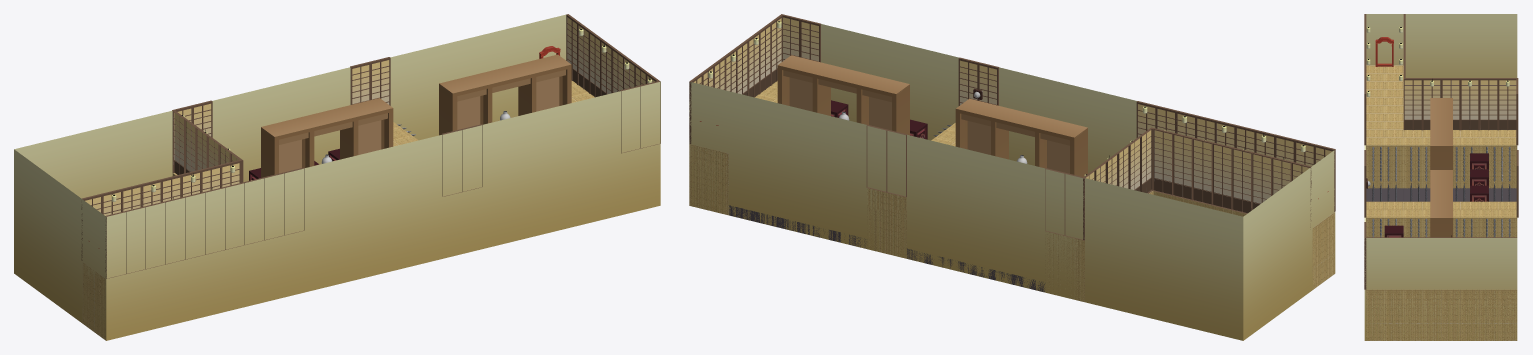
The model's file is Tutorial_04.fbx.
The picture shows the model from 3 angles, left to right: view 1: azimuth 30°, elevation 25°; view 2: azimuth 150°, elevation 25°; view 3: azimuth 270°, elevation 25°; orthographic projection. The views are drawn at different scales.
Parts seen in each view (by area): view 1: Background_04, shelf_02, shelf_01, screenWall_09, screenWall_02, screenWall_06, Base_01, screenWall_05, screenWall_01, screenWall_03, screenWall_004; view 2: Background_04, screenWall_02, shelf_02, shelf_01, screenWall_01, screenWall_09, Base_05, Base_04, screenWall_03, Base_01, screenwall_07, screenWall_08 (+4 smaller); view 3: Background_04, Base_05, Base_02, Base_01, Base_04, screenWall_03, spikeTrap_01, screenWall_05, shelf_01, shelf_02, flower_PL_01, spikeTrap_02 (+9 smaller).
Part boxes in pixels (<box>): Background_04: <box>14,14,660,340</box>; shelf_02: <box>439,54,571,135</box>; shelf_01: <box>261,98,393,177</box>; screenWall_09: <box>566,14,659,97</box>; screenWall_02: <box>81,160,240,260</box>; screenWall_06: <box>350,57,390,105</box>; Base_01: <box>82,262,105,340</box>; screenWall_05: <box>173,110,197,174</box>; screenWall_01: <box>105,168,304,278</box>; screenWall_03: <box>195,127,243,182</box>; screenWall_004: <box>172,100,212,172</box>; Background_04: <box>689,24,1335,340</box>; screenWall_02: <box>1152,128,1311,227</box>; shelf_02: <box>777,55,909,135</box>; shelf_01: <box>955,98,1087,176</box>; screenWall_01: <box>1136,101,1335,211</box>; screenWall_09: <box>689,15,782,143</box>; Base_05: <box>689,81,777,215</box>; Base_04: <box>867,123,955,258</box>; screenWall_03: <box>1105,127,1152,193</box>; Base_01: <box>1153,191,1334,289</box>; screenwall_07: <box>958,57,998,105</box>; screenWall_08: <box>781,14,820,62</box>; Background_04: <box>1364,14,1517,340</box>; Base_05: <box>1366,289,1517,340</box>; Base_02: <box>1403,130,1517,188</box>; Base_01: <box>1366,65,1403,188</box>; Base_04: <box>1366,201,1517,237</box>; screenWall_03: <box>1403,78,1479,130</box>; spikeTrap_01: <box>1366,147,1516,201</box>; screenWall_05: <box>1479,78,1517,130</box>; shelf_01: <box>1430,98,1452,169</box>; shelf_02: <box>1430,170,1452,237</box>; flower_PL_01: <box>1470,153,1488,201</box>; spikeTrap_02: <box>1372,219,1510,237</box>.
Size of the model in its own units: 56 by 12.1 by 16.32.
